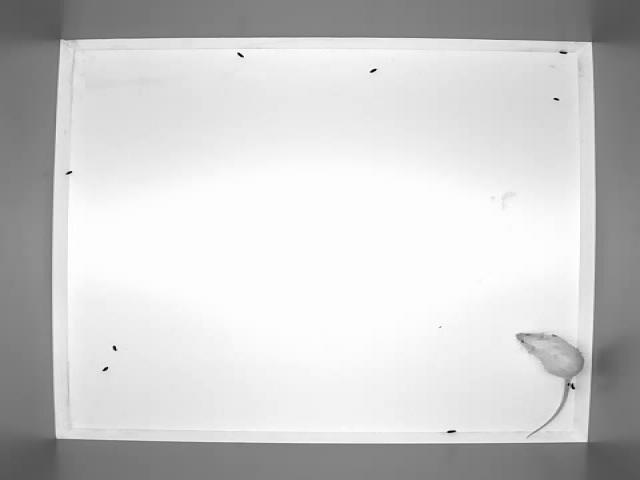Tikus: (507, 321, 594, 438)
